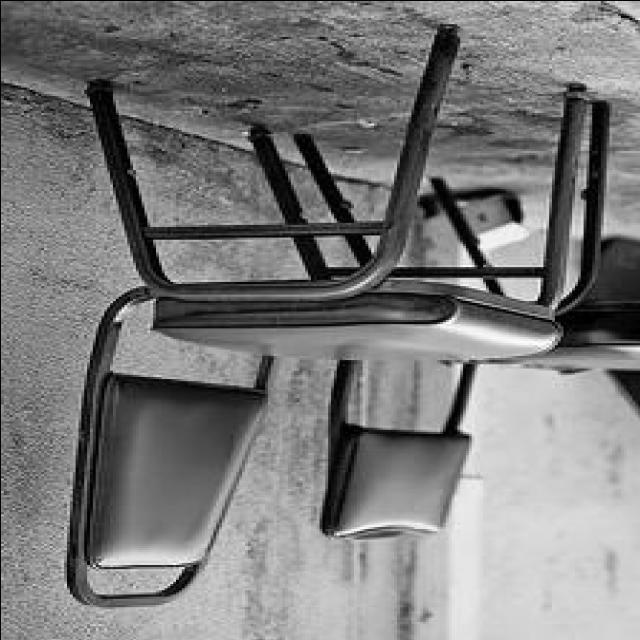chair: (61, 28, 589, 610), (290, 103, 638, 548)
